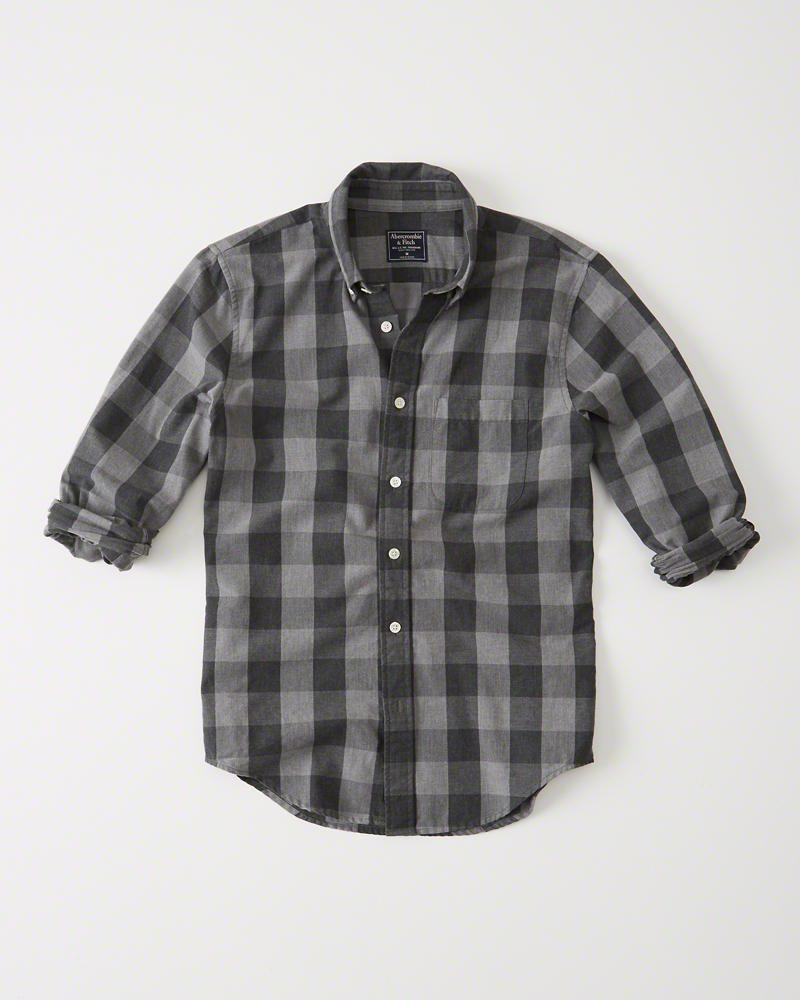teeshirt: (24, 160, 762, 850)
